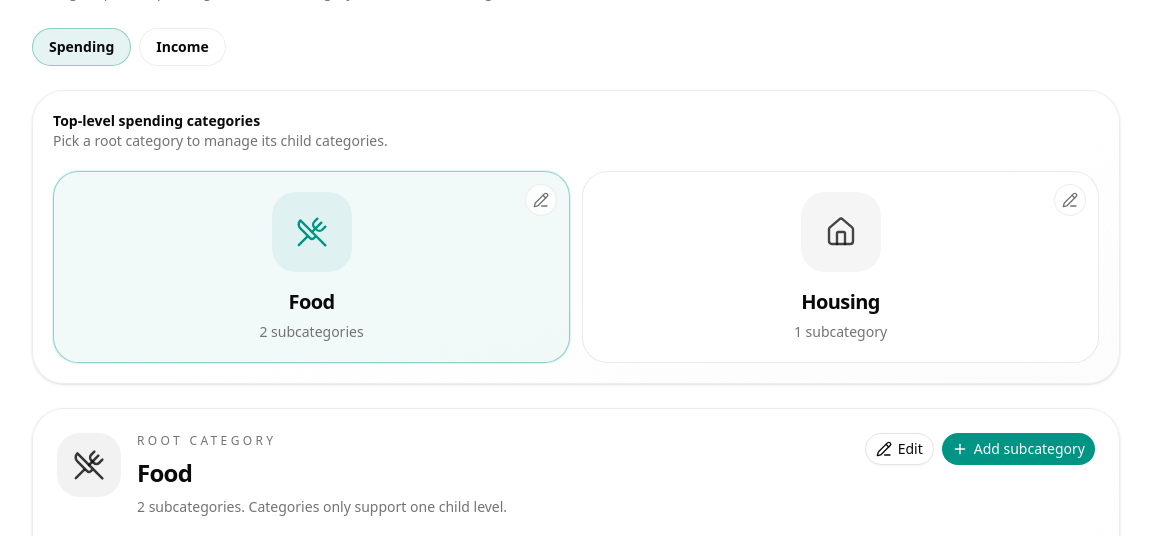
Scenario: categories route › switches to income categories and renders the income tree
The image size is (1152, 536).
Click the button "Income".
click(183, 47)  # box [139,28,226,66]
(page scrolled)
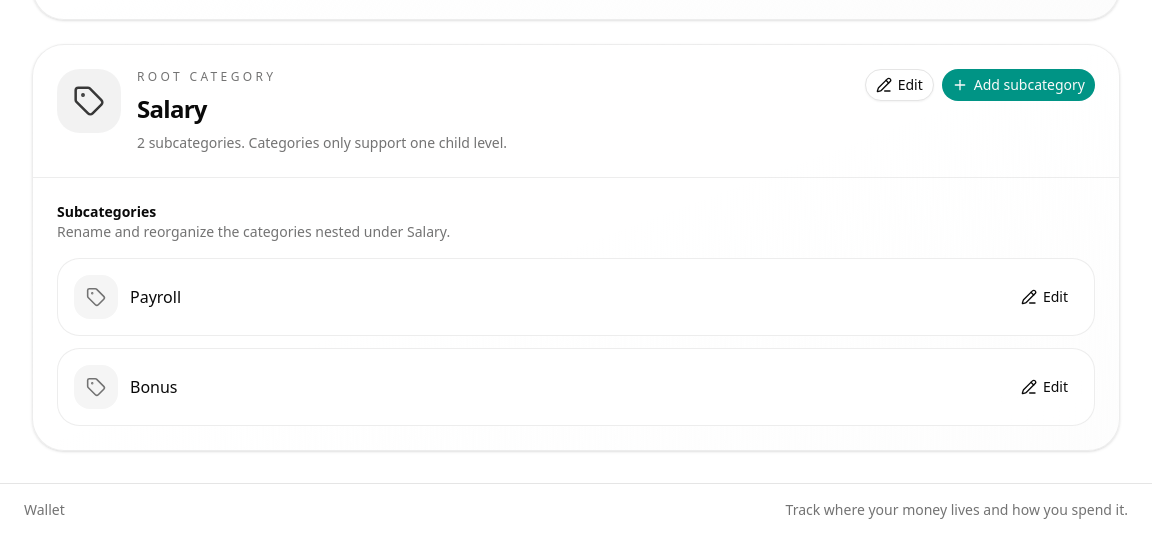
Now the text "Payroll" is shown, box [130,285,181,309]
